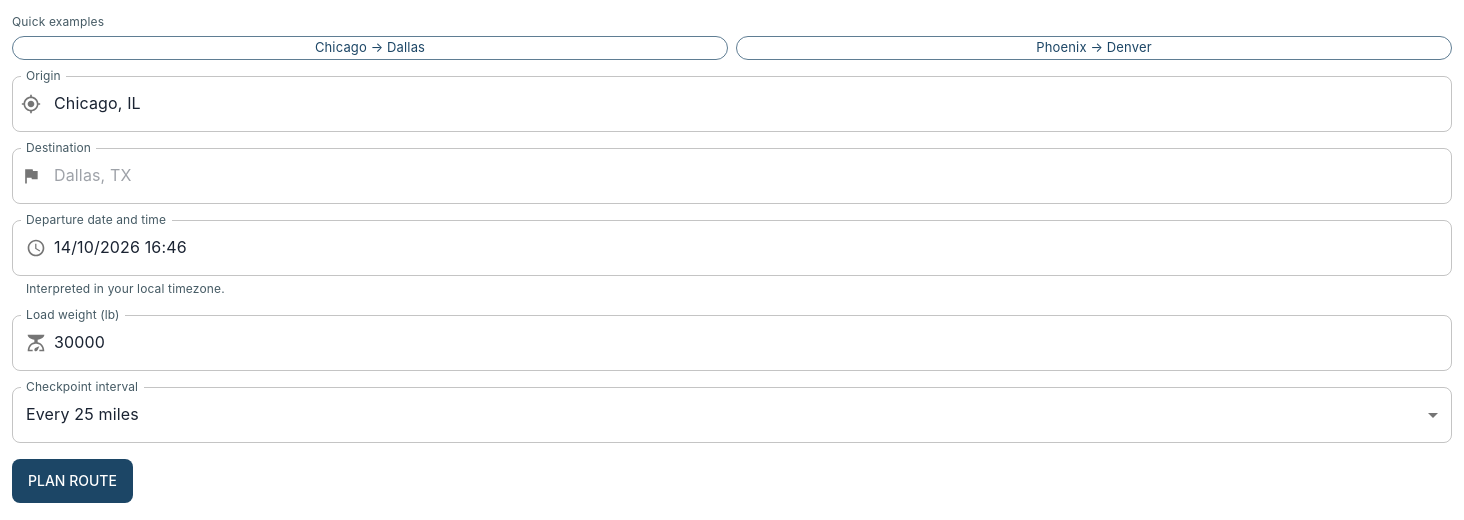
Test: RoutePlanForm city autocomplete › offers curated cities that the backend mock actually resolves
Clear the dropdown labelled "Origin" at (731, 104), box [49, 85, 1413, 123]
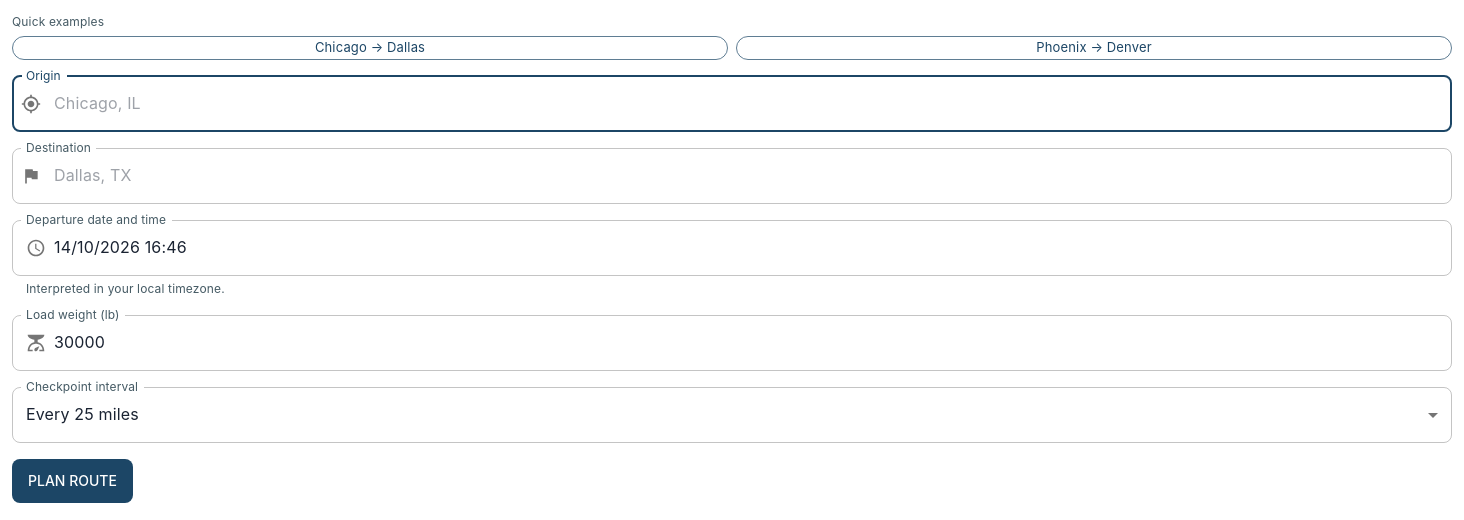
Click the dropdown labelled "Origin" at (746, 104), box [49, 85, 1443, 123]
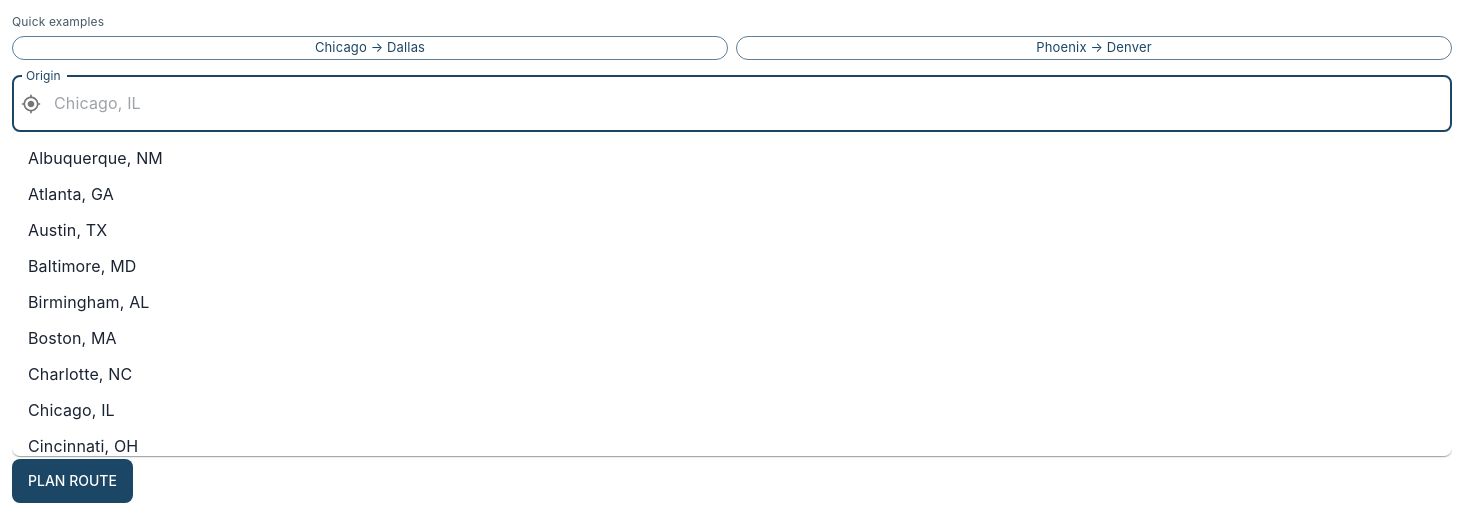
Type keys "houst"
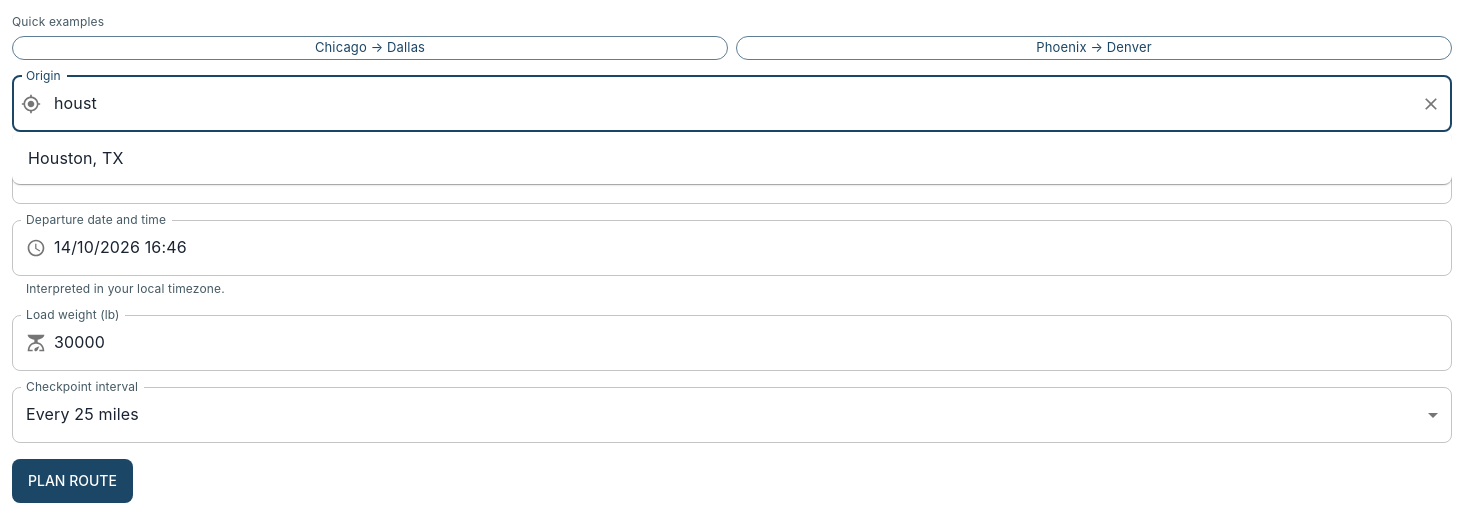
Result: the option "Houston, TX" is shown at [28, 148, 124, 168]
